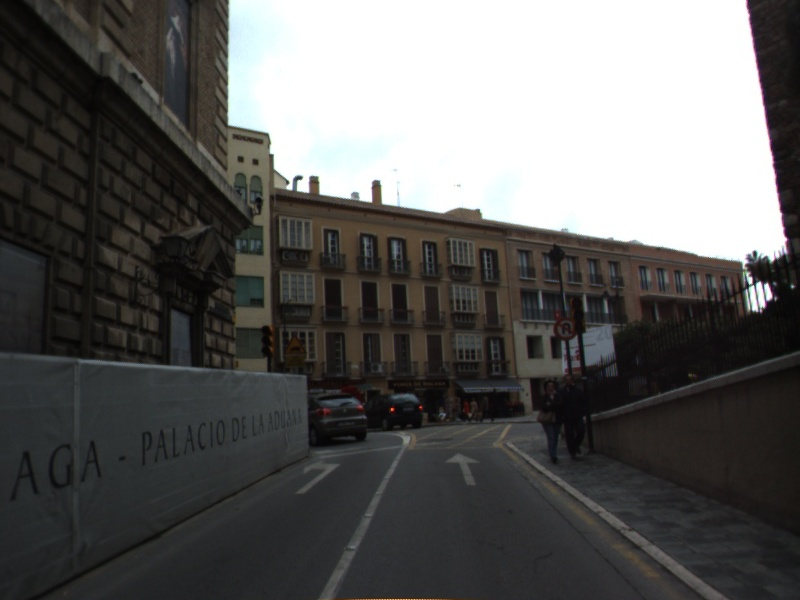LEFT: (293, 458, 343, 496)
STRAIGHT: (443, 450, 484, 487)
